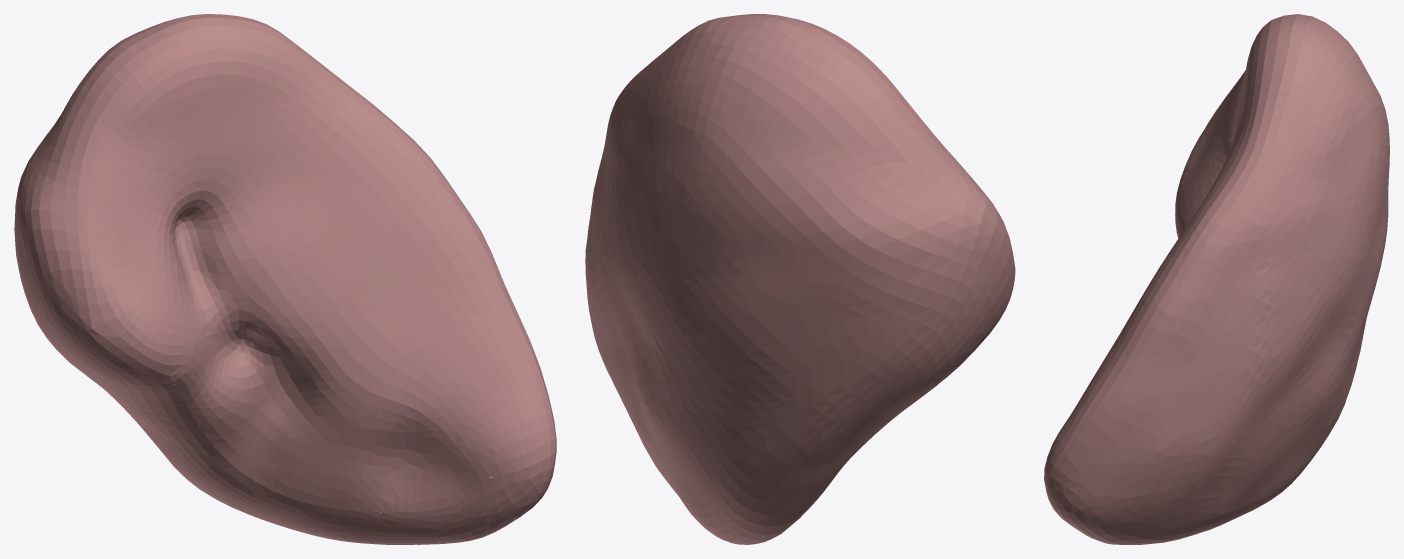
Rendered from VH_F_Spleen_0.6.glb.
The picture shows the model from 3 angles, left to right: view 1: azimuth 30°, elevation 25°; view 2: azimuth 150°, elevation 25°; view 3: azimuth 270°, elevation 25°; orthographic projection. The views are drawn at different scales.
Parts seen in each view (by area): view 1: VH_F_gastric_surface_of_spleen, VH_F_hilum_of_spleen, VH_F_diaphragmatic_surface_of_spleen, VH_F_renal_surface_of_spleen, VH_F_colic_surface_of_spleen; view 2: VH_F_diaphragmatic_surface_of_spleen; view 3: VH_F_diaphragmatic_surface_of_spleen, VH_F_gastric_surface_of_spleen, VH_F_hilum_of_spleen.
Part boxes in pixels (box(x1,y1,x2,y2)): VH_F_gastric_surface_of_spleen: box(77, 36, 555, 477); VH_F_hilum_of_spleen: box(163, 190, 479, 512); VH_F_diaphragmatic_surface_of_spleen: box(14, 14, 556, 544); VH_F_renal_surface_of_spleen: box(67, 329, 477, 544); VH_F_colic_surface_of_spleen: box(458, 453, 555, 537); VH_F_diaphragmatic_surface_of_spleen: box(585, 14, 1015, 544); VH_F_diaphragmatic_surface_of_spleen: box(1048, 14, 1389, 544); VH_F_gastric_surface_of_spleen: box(1044, 20, 1271, 475); VH_F_hilum_of_spleen: box(1178, 136, 1233, 237).
Size of the model in its own units: 0.0896 by 0.1023 by 0.071.
